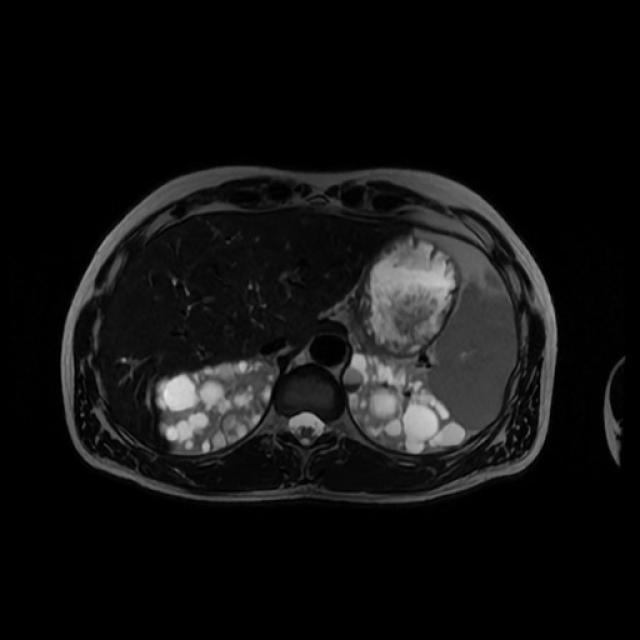sag: (160, 360, 276, 451)
sol: (346, 354, 462, 455)
